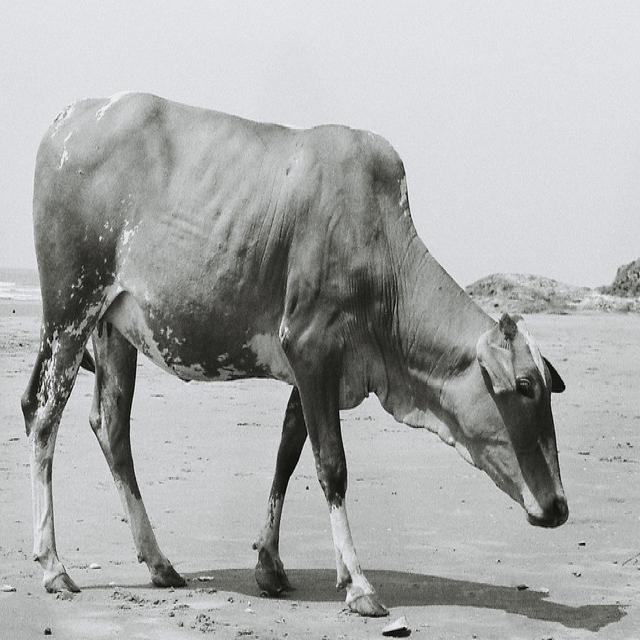cow: (15, 87, 568, 619)
